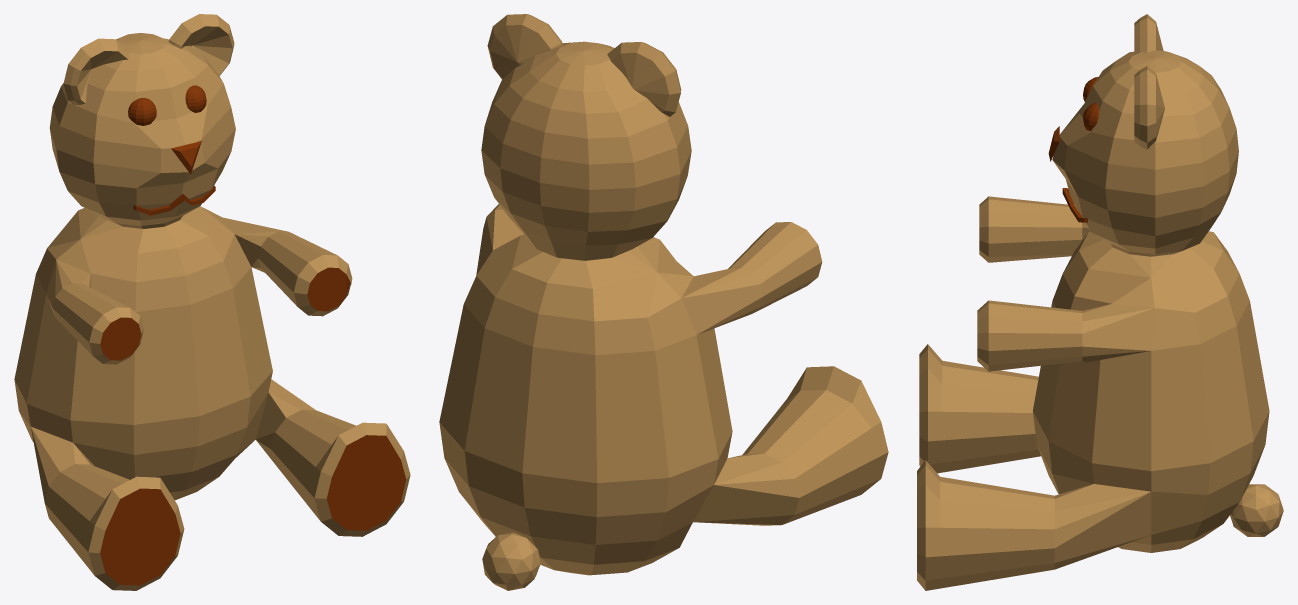
The model's file is obj_teddy_bear_0e6356.glb.
3 views of the same model, side by side, from view 1: azimuth 30°, elevation 25°; view 2: azimuth 150°, elevation 25°; view 3: azimuth 270°, elevation 25° (orthographic). The views are drawn at different scales.
Parts seen in each view (by area): view 1: obj_teddy_bear_0e6356; view 2: obj_teddy_bear_0e6356; view 3: obj_teddy_bear_0e6356.
Boxes of the visible parts, <box> form: obj_teddy_bear_0e6356: <box>14,14,410,590</box>; obj_teddy_bear_0e6356: <box>439,14,888,590</box>; obj_teddy_bear_0e6356: <box>917,14,1283,590</box>.
Size of the model in its own units: 0.2849 by 0.4 by 0.2669.
